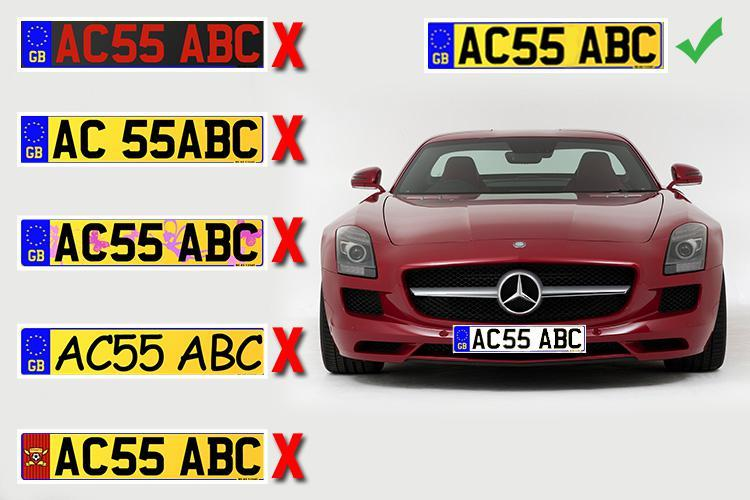number_plate: (451, 323, 588, 355)
